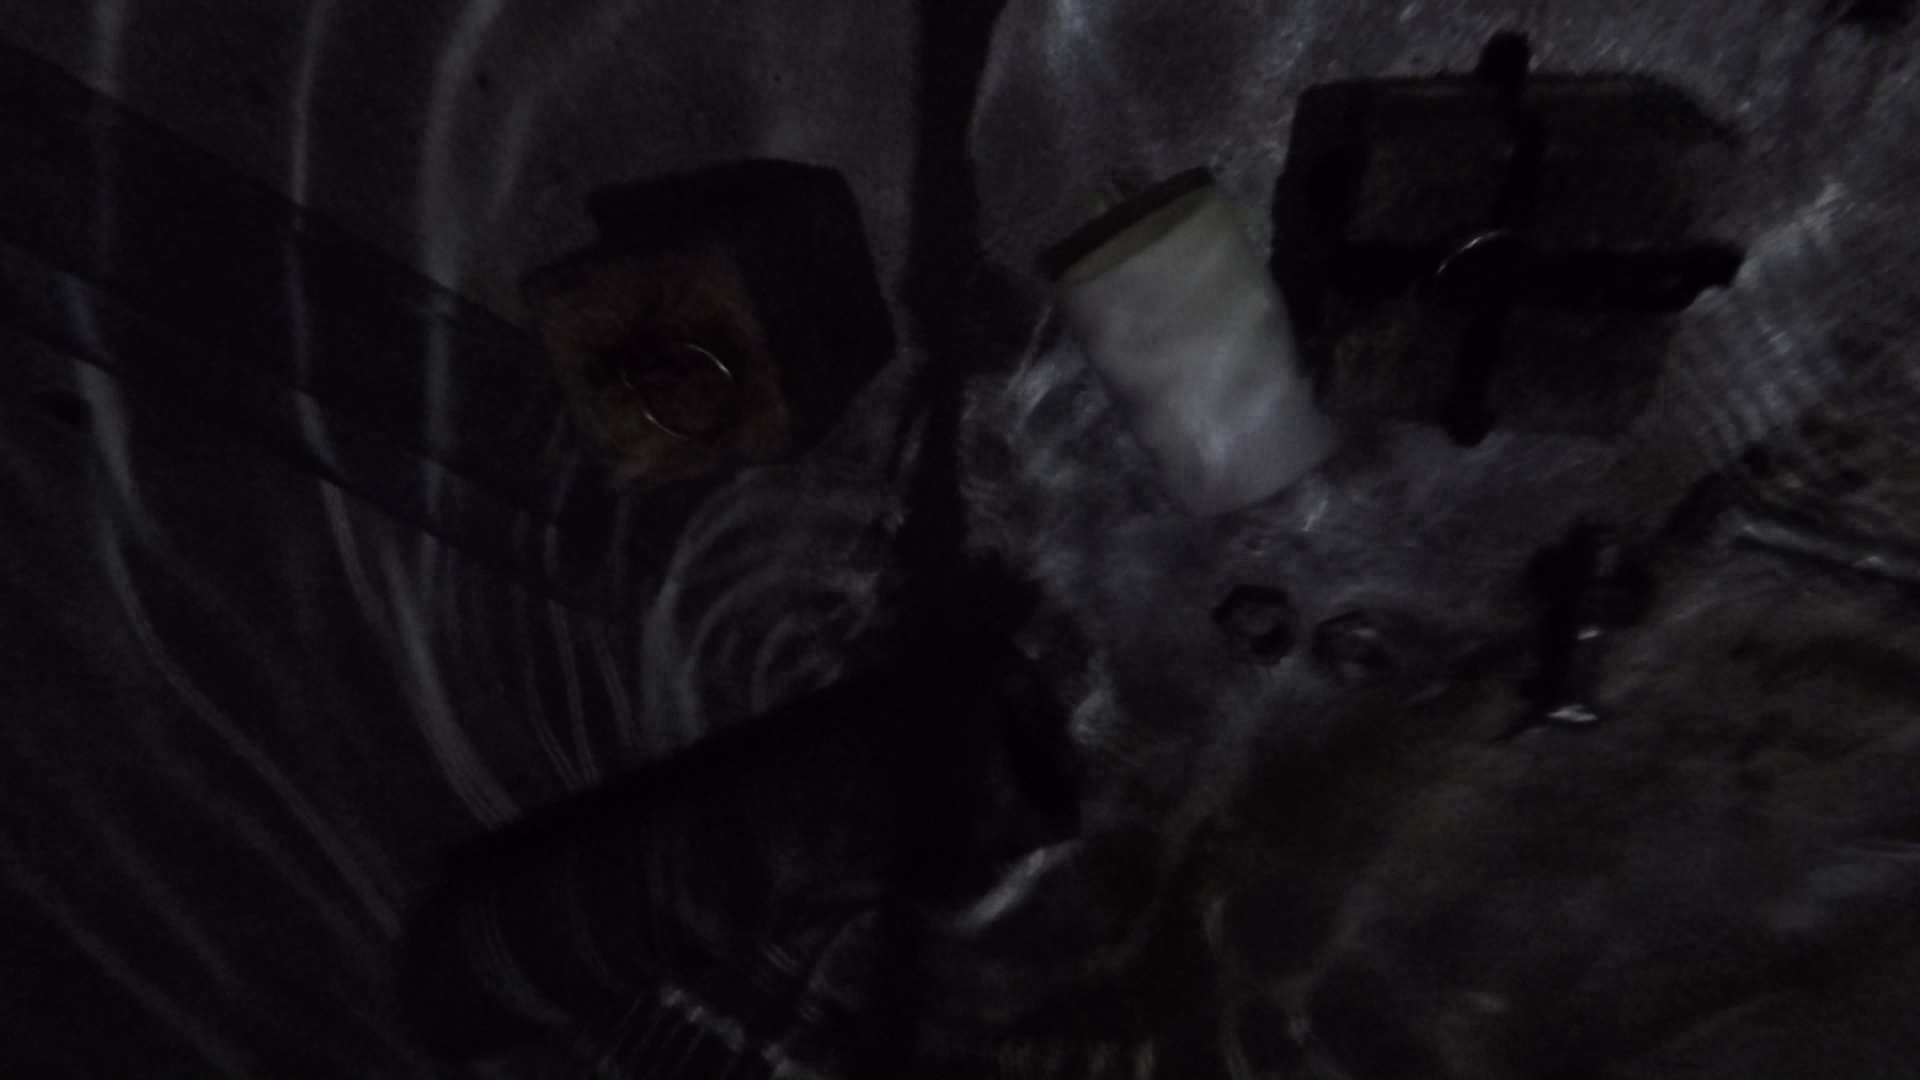bolt: (1695, 481, 1920, 582), (1534, 525, 1627, 731)
led_block: (1288, 34, 1747, 446), (520, 164, 899, 502)
nut: (1535, 549, 1648, 626), (1313, 611, 1399, 694), (1211, 585, 1299, 666)
pipe: (1, 34, 702, 621), (431, 640, 1083, 1025), (1054, 179, 1342, 520)
